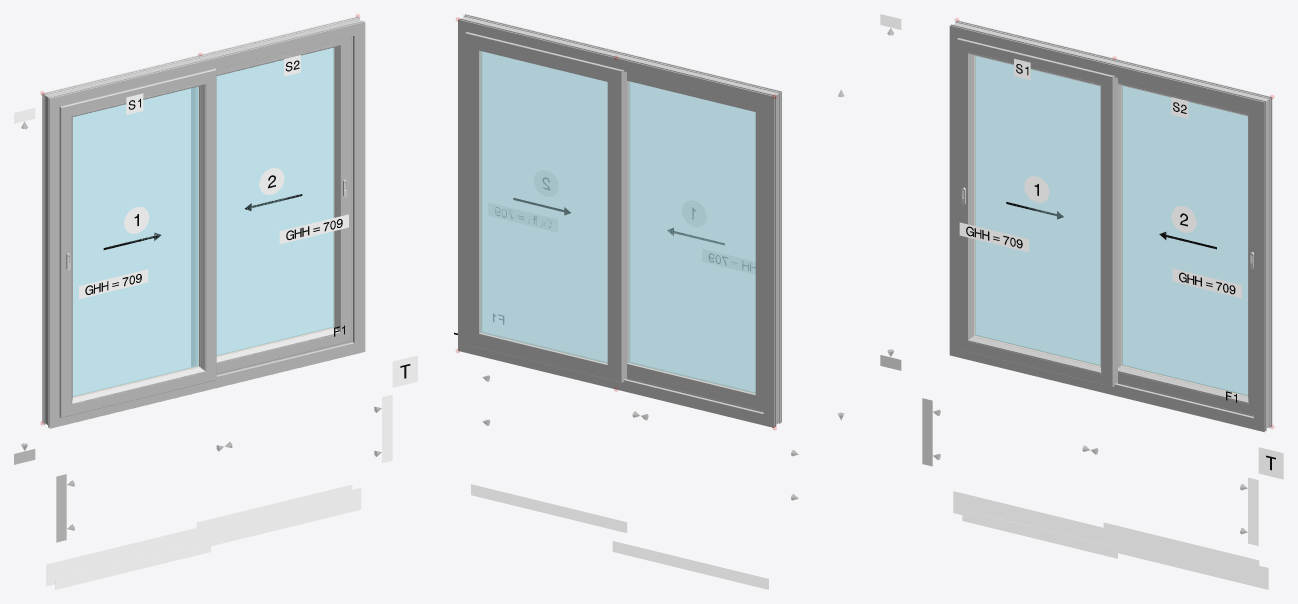
3 renders of one model, left to right at view 1: azimuth 30°, elevation 25°; view 2: azimuth 150°, elevation 25°; view 3: azimuth 330°, elevation 25°, orthographic.
Parts seen in each view (by area): view 1: GlassMesh (×2), profile (×17), labelShape (×3), HandleLabel (×2), object 15, object 16, TrackLabel, GlassIdLabel; view 2: GlassMesh (×2), profile (×13), labelShape (×2), HandleLabel (×2), object 63, object 75; view 3: GlassMesh (×2), profile (×18), labelShape (×3), HandleLabel (×2), object 15, object 16, TrackLabel, GlassIdLabel.
Part boxes in pixels (bbox=[...]): GlassMesh (×2): bbox=[73, 47, 334, 396]; profile (×17): bbox=[42, 16, 365, 428]; labelShape (×3): bbox=[46, 484, 361, 589]; HandleLabel (×2): bbox=[79, 214, 348, 299]; object 15: bbox=[56, 474, 66, 542]; object 16: bbox=[382, 394, 392, 462]; TrackLabel: bbox=[392, 355, 417, 387]; GlassIdLabel: bbox=[124, 207, 149, 233]; GlassMesh (×2): bbox=[480, 51, 755, 393]; profile (×13): bbox=[458, 14, 781, 427]; labelShape (×2): bbox=[471, 484, 768, 589]; HandleLabel (×2): bbox=[488, 203, 755, 274]; object 63: bbox=[628, 81, 629, 362]; object 75: bbox=[480, 51, 481, 331]; GlassMesh (×2): bbox=[974, 56, 1247, 395]; profile (×18): bbox=[949, 20, 1272, 431]; labelShape (×3): bbox=[953, 491, 1268, 589]; HandleLabel (×2): bbox=[959, 222, 1241, 298]; object 15: bbox=[922, 398, 932, 466]; object 16: bbox=[1248, 477, 1258, 545]; TrackLabel: bbox=[1258, 447, 1283, 479]; GlassIdLabel: bbox=[1024, 176, 1049, 202].
Size of what is drawn, in the model's own units: 1920 by 2305 by 230.
